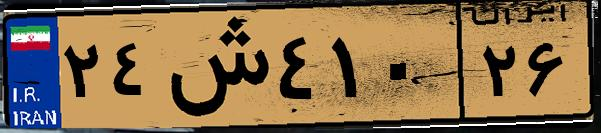0: (385, 28, 445, 110)
1: (330, 28, 385, 110)
2: (57, 26, 110, 100), (475, 38, 525, 113)
4: (270, 28, 330, 110), (110, 28, 158, 98)
6: (525, 38, 570, 115)
ش: (158, 12, 270, 120)
